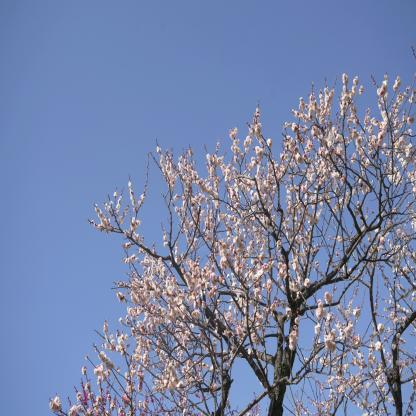Ume: (49, 44, 416, 416)
